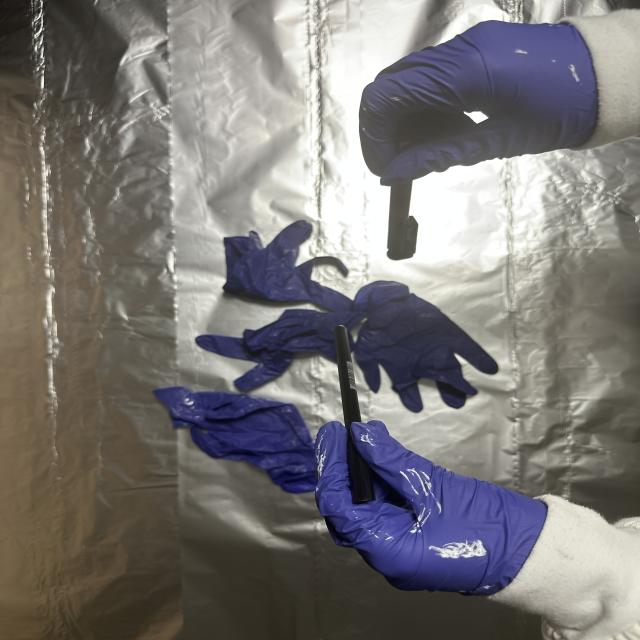gloves_contaminated: (316, 421, 550, 594), (360, 21, 598, 185)
